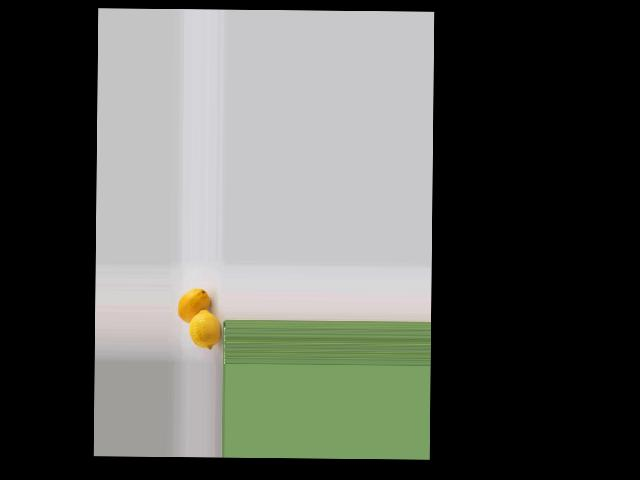lemon: (176, 287, 207, 321)
